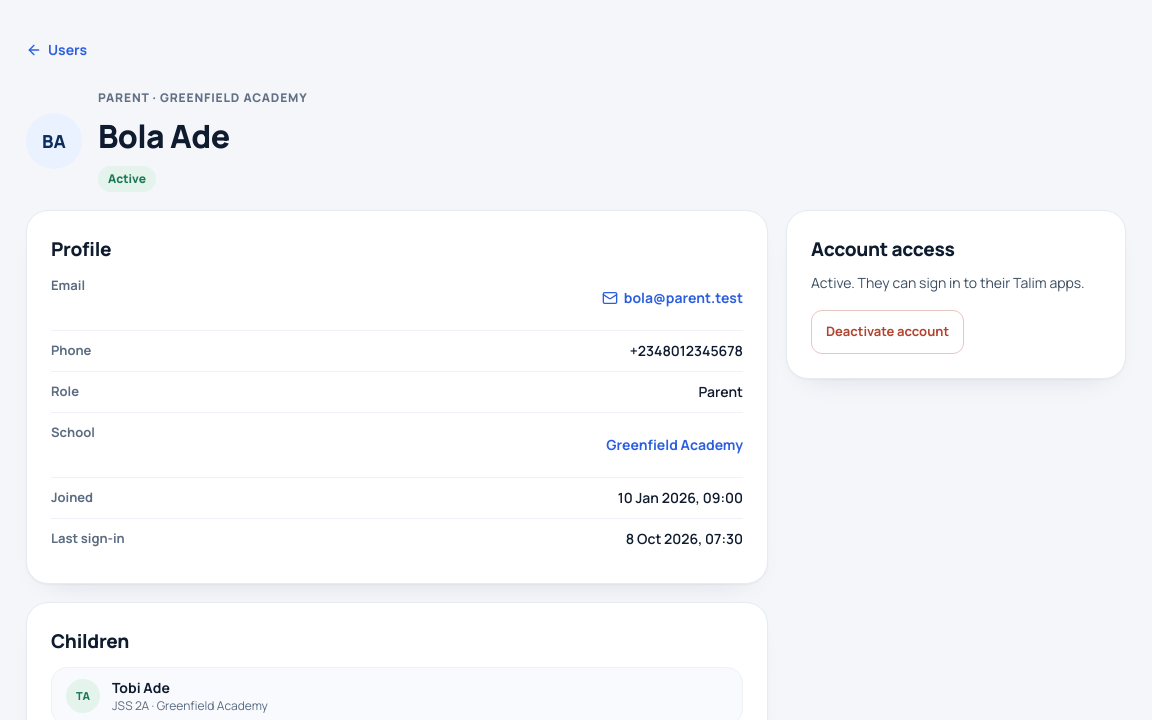
Test case: User detail › deactivates behind a confirm, sending the reason
Click the button "Deactivate account".
click(888, 332)  # box [811,310,964,354]
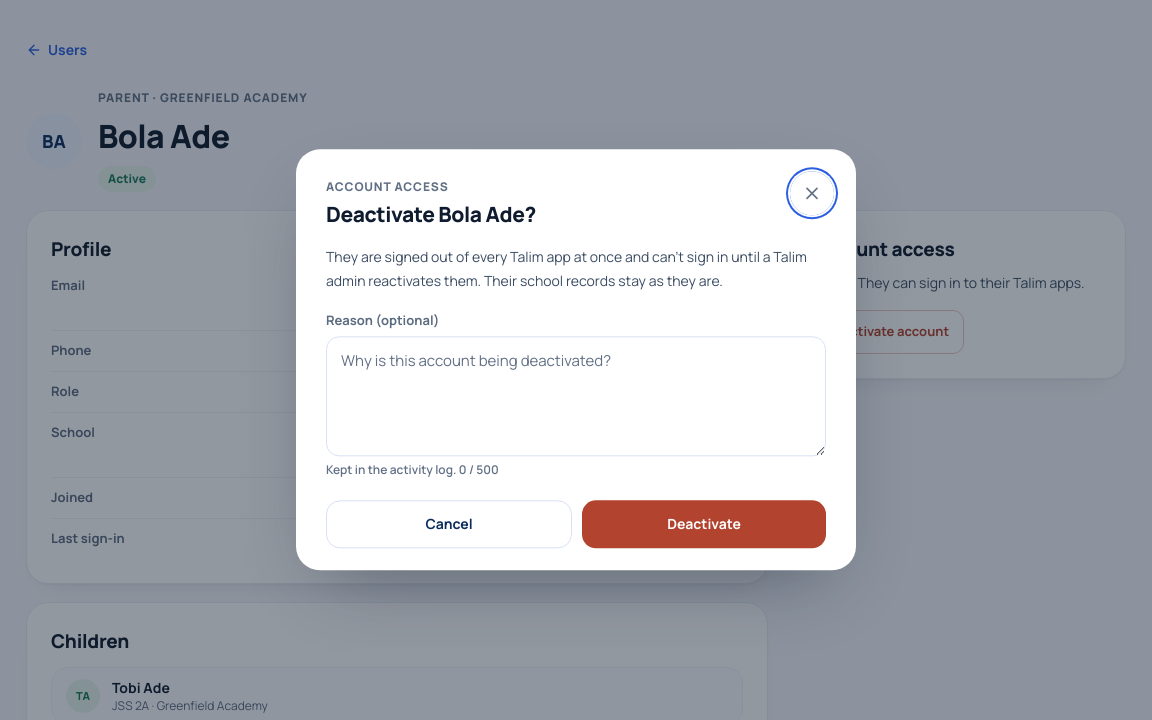
Type "Left the school" into the text box labelled "Reason (optional)".
click(576, 397); type("Left the school")  # box [326,337,826,457]
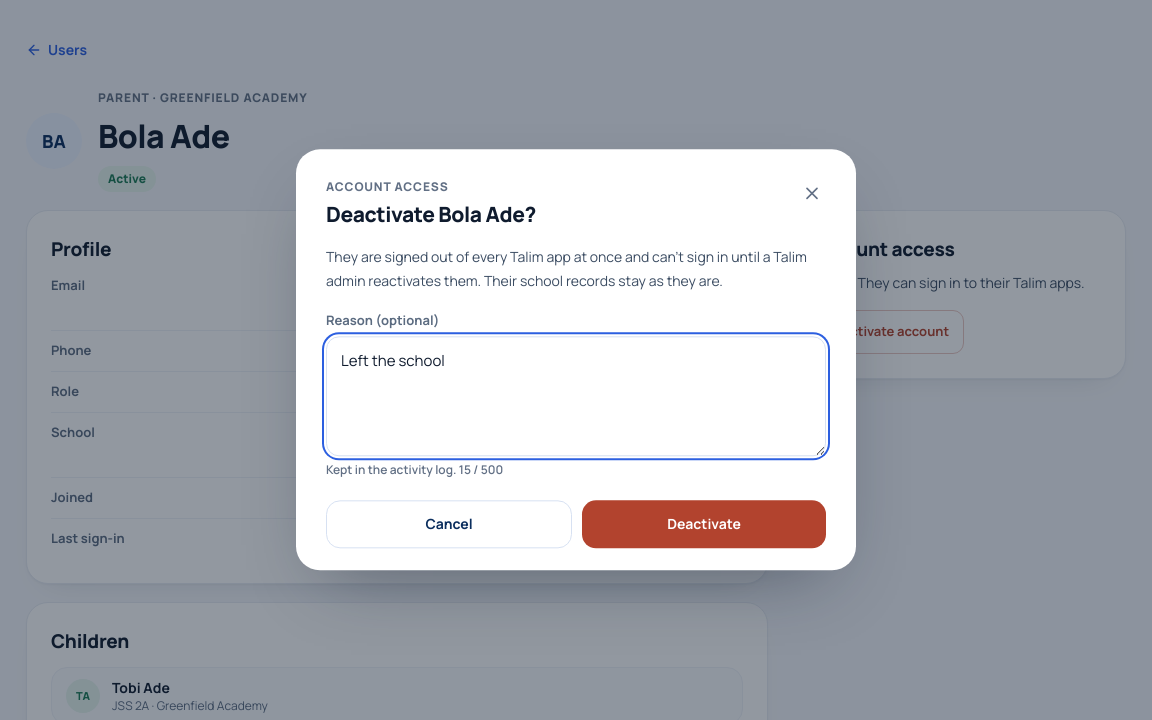
Click the button "Deactivate".
click(704, 525)  # box [582,501,826,549]
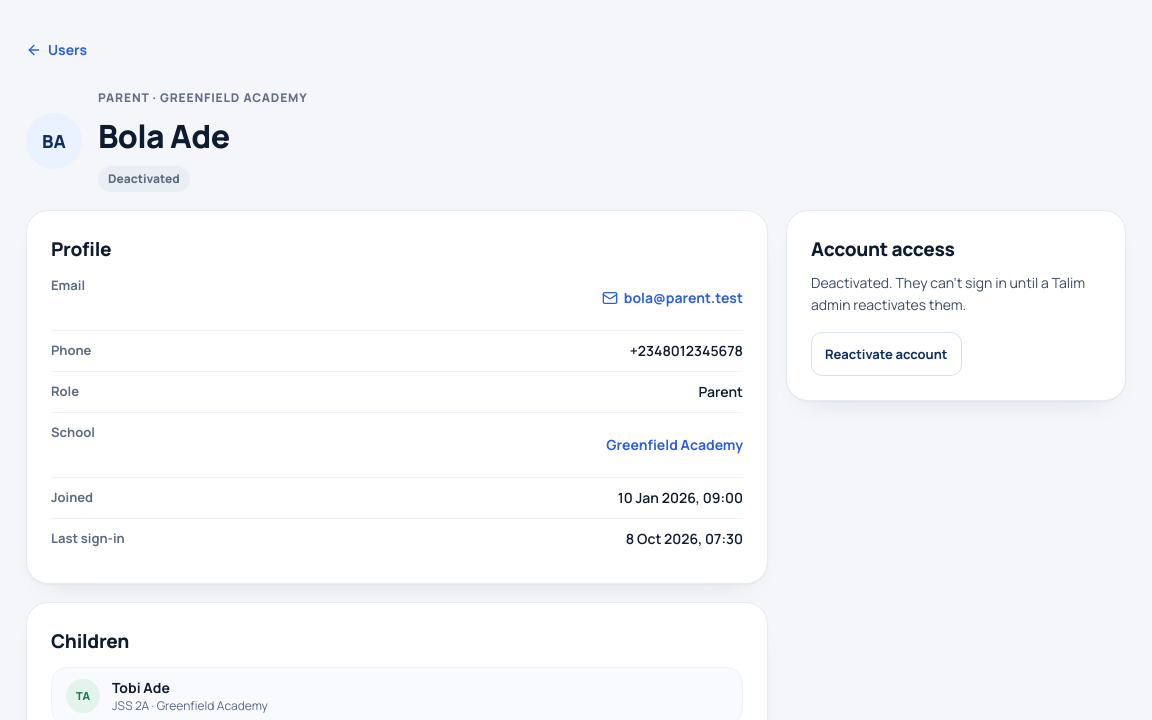
Expected: the text with test id "user-status" reads "Deactivated", [108,170,180,187]
Expected: the button "Reactivate account" is shown, [811,332,962,376]
Expected: the dialog is gone
